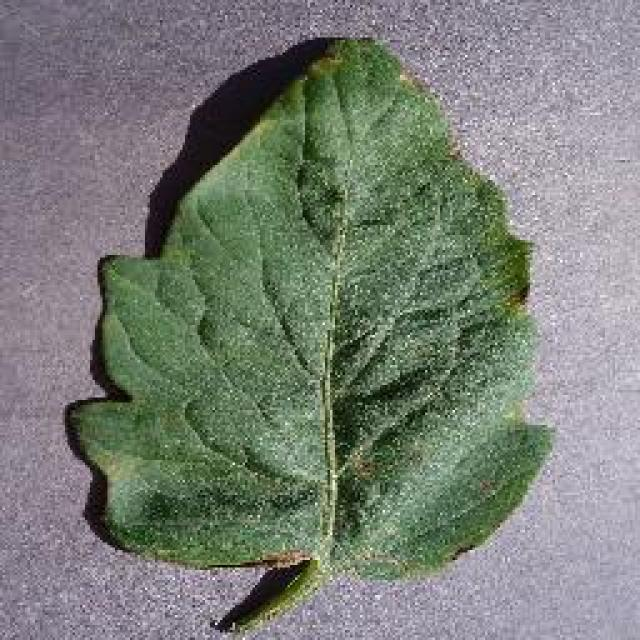Tom_Target_Spot: (234, 528, 411, 576), (319, 412, 405, 493)
